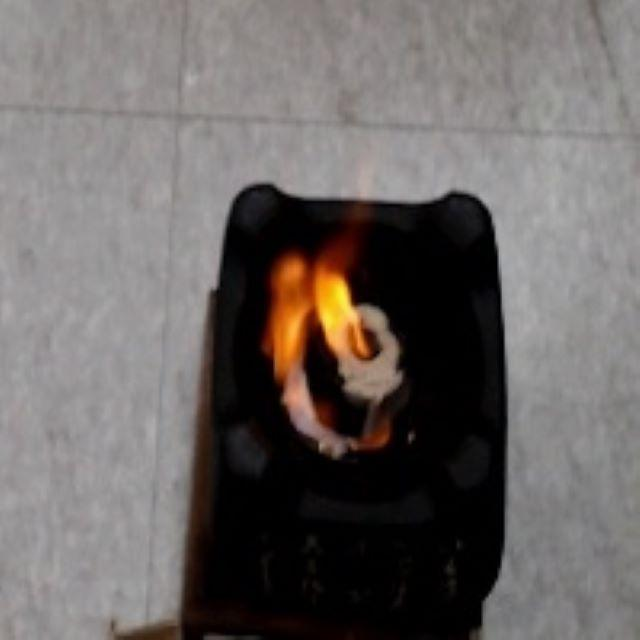Fire: (262, 240, 374, 398)
